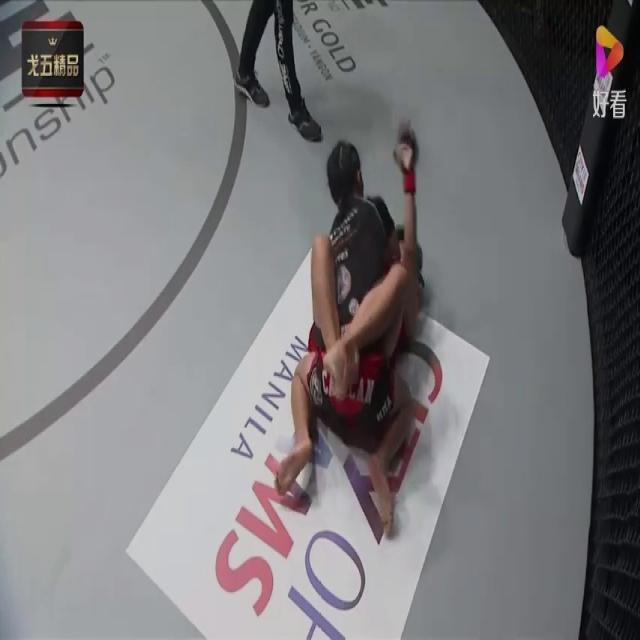fight: (246, 110, 482, 550)
